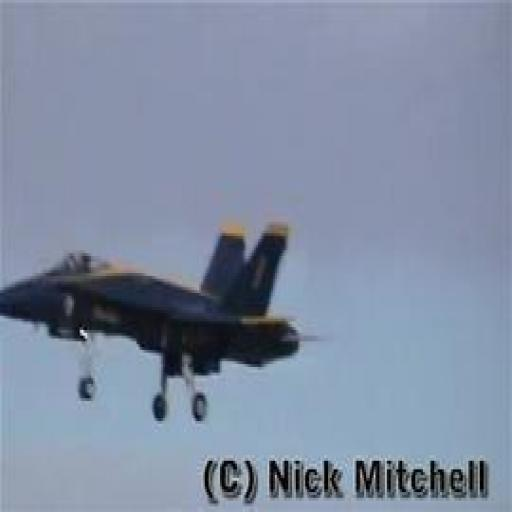aircraft: (0, 221, 335, 422)
